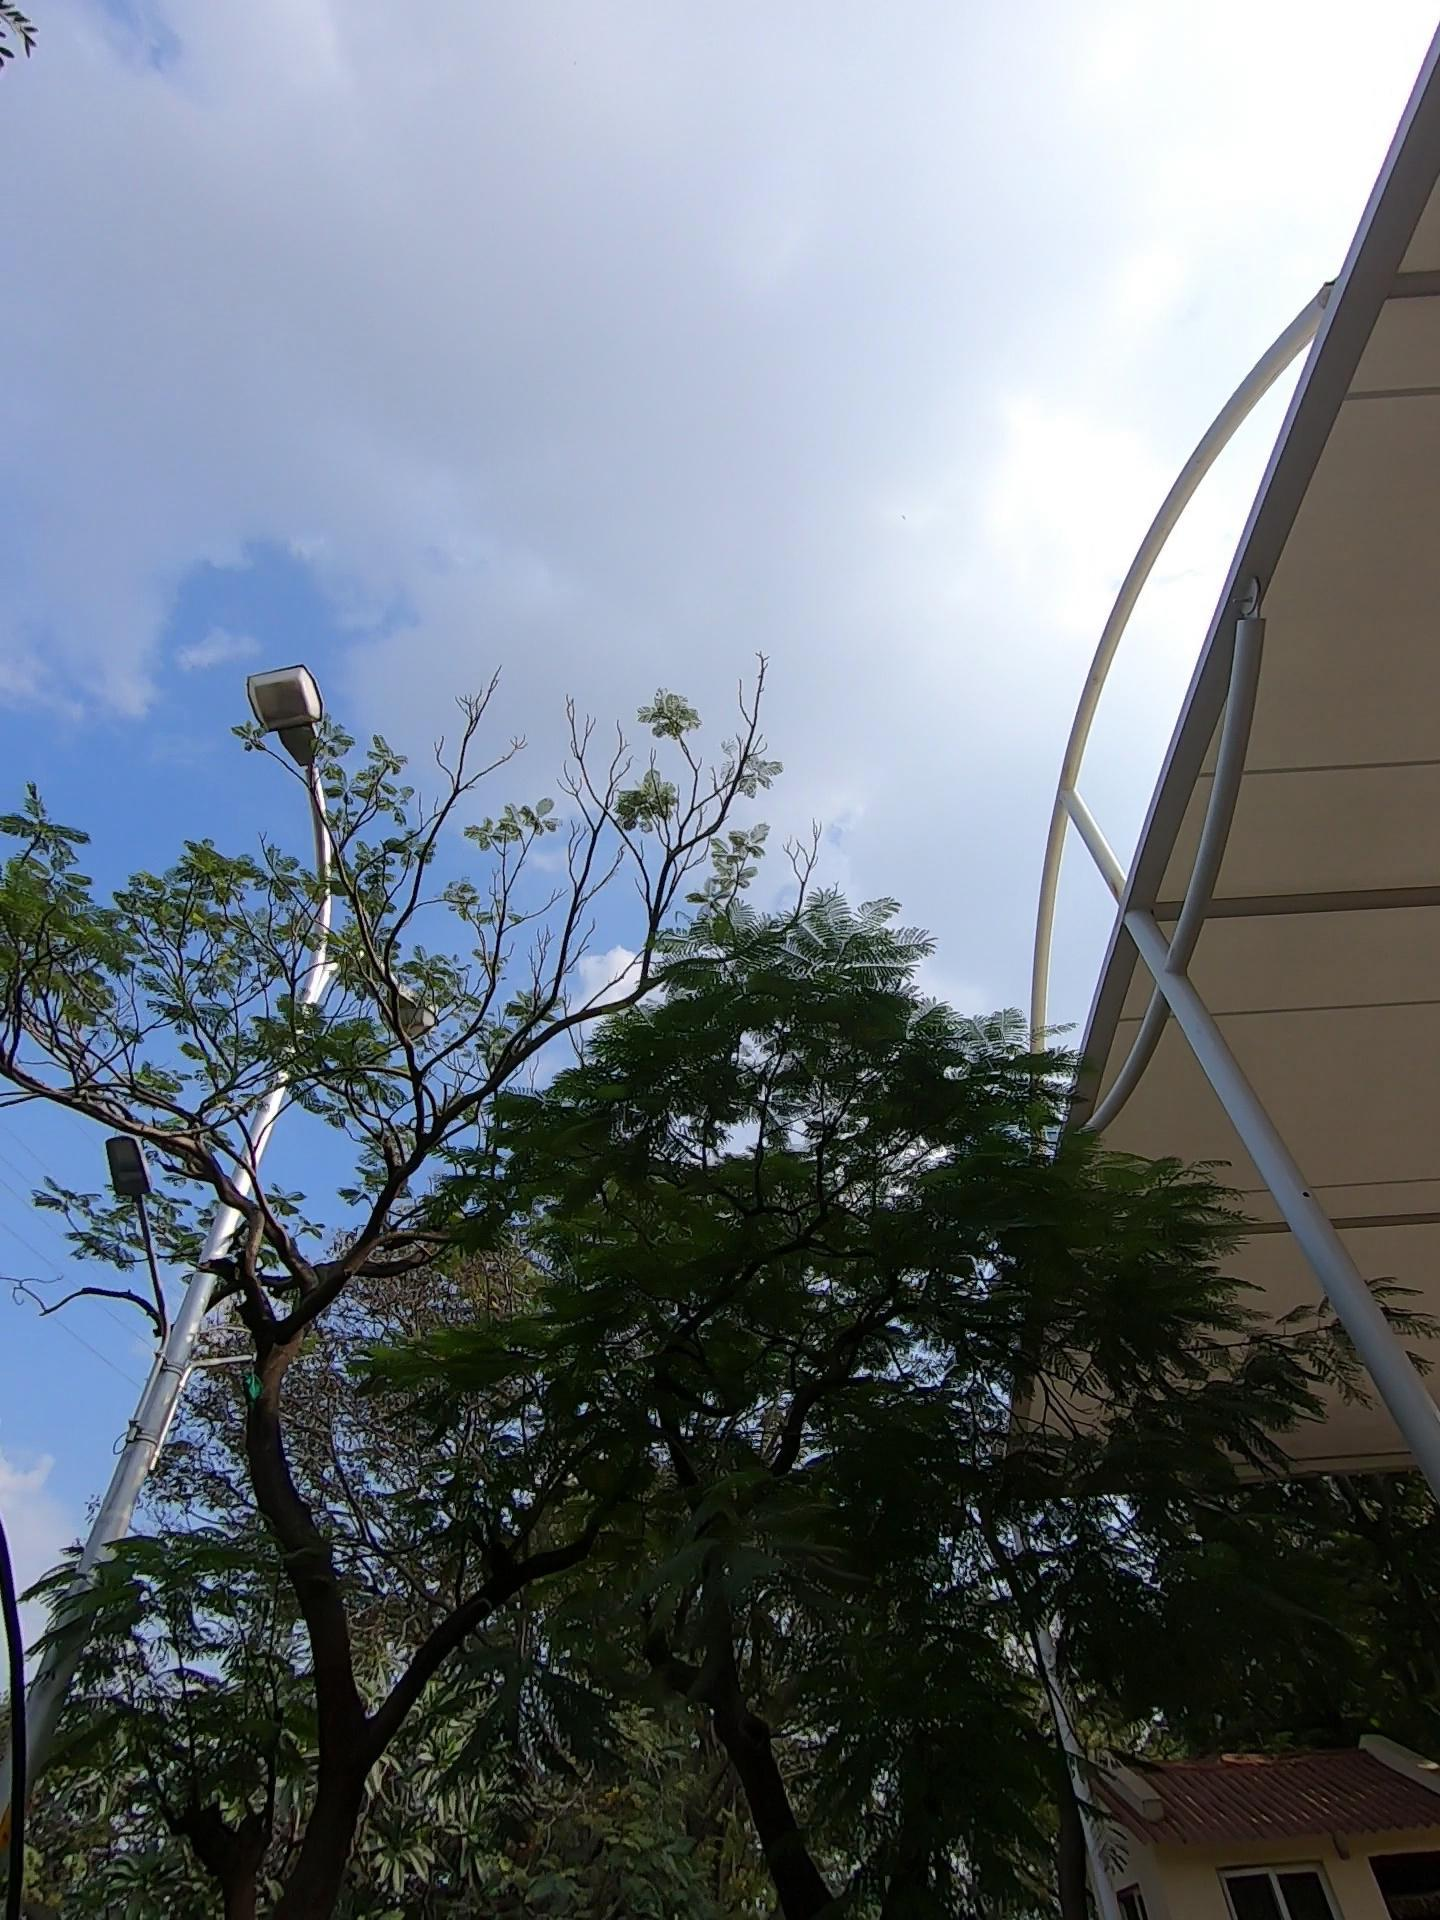off: (219, 457, 475, 1055)
